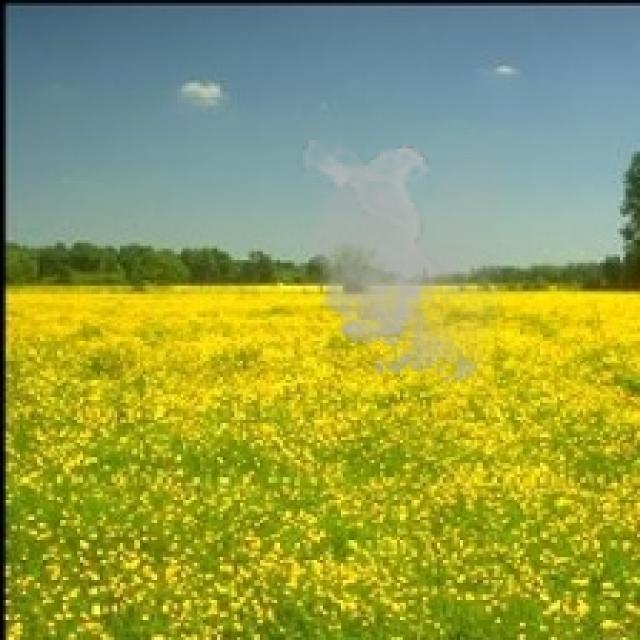smoke: (291, 140, 503, 391)
